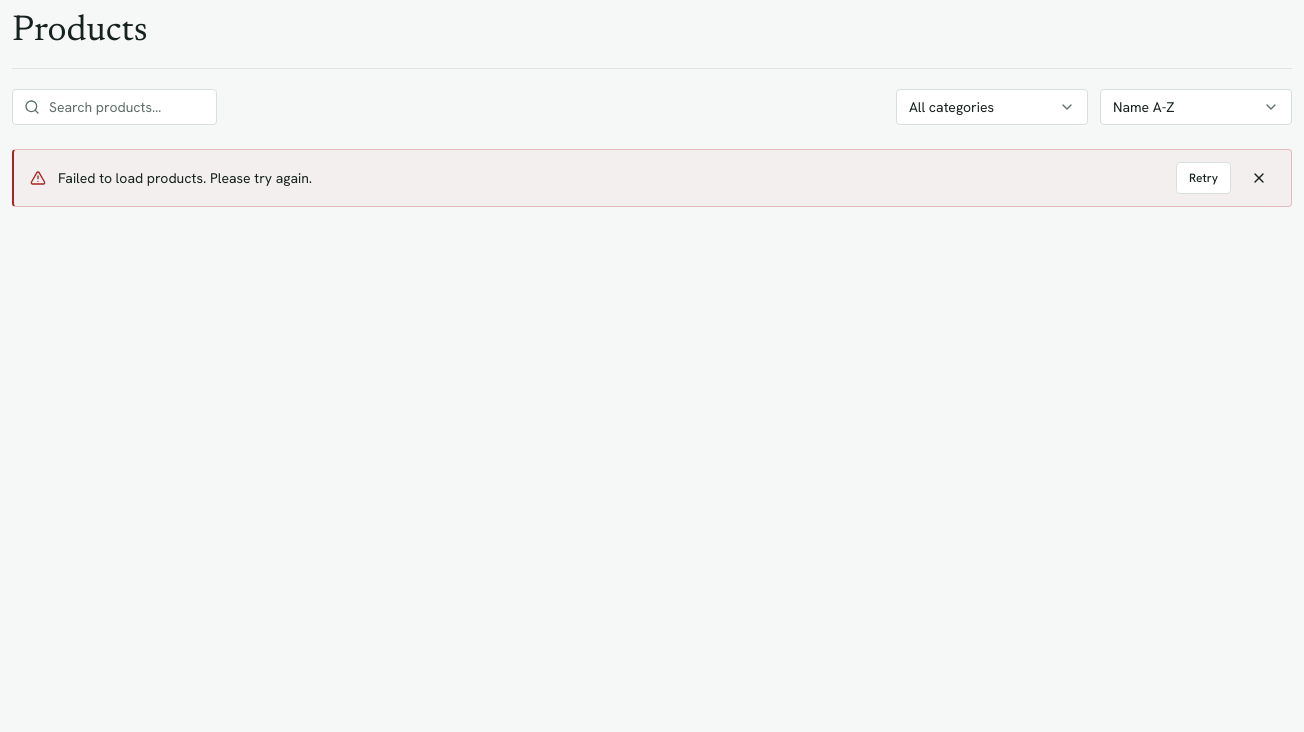
Test case: ProductListPage › reloads products when Retry is clicked
Click the button "Retry": (1204, 178) [1176,162,1231,194]
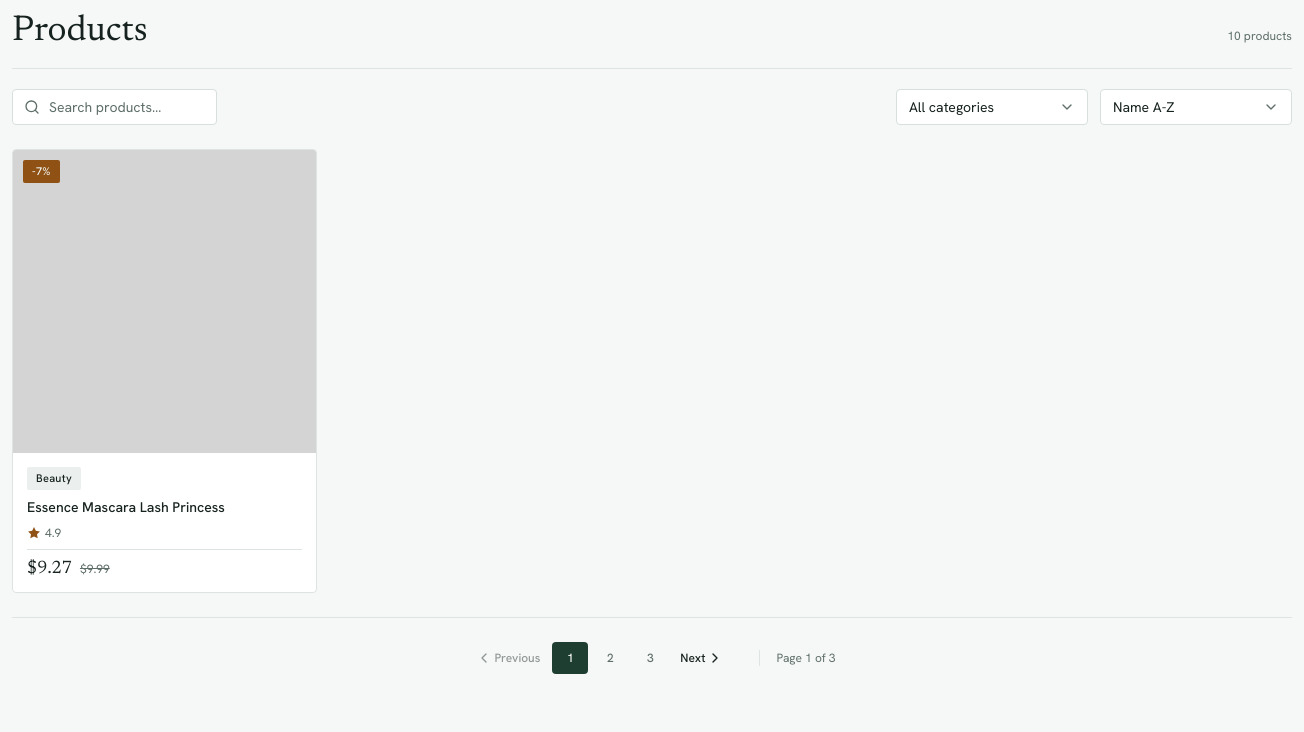
expect the text "$9.27" is shown: met, box [27,560,72,578]
expect the message "Failed to load products. Please try again. Retry" is gone: met
